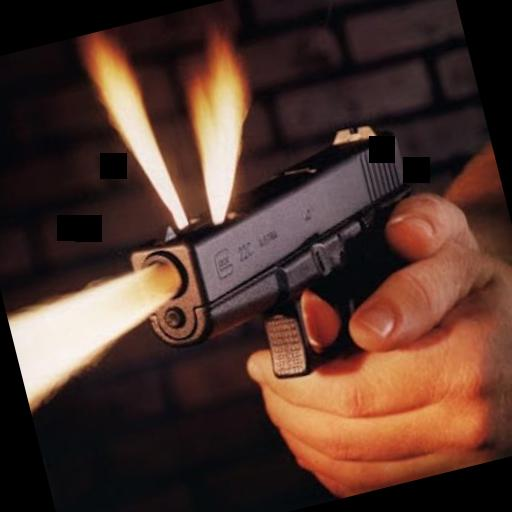Handgun: (102, 100, 458, 421)
